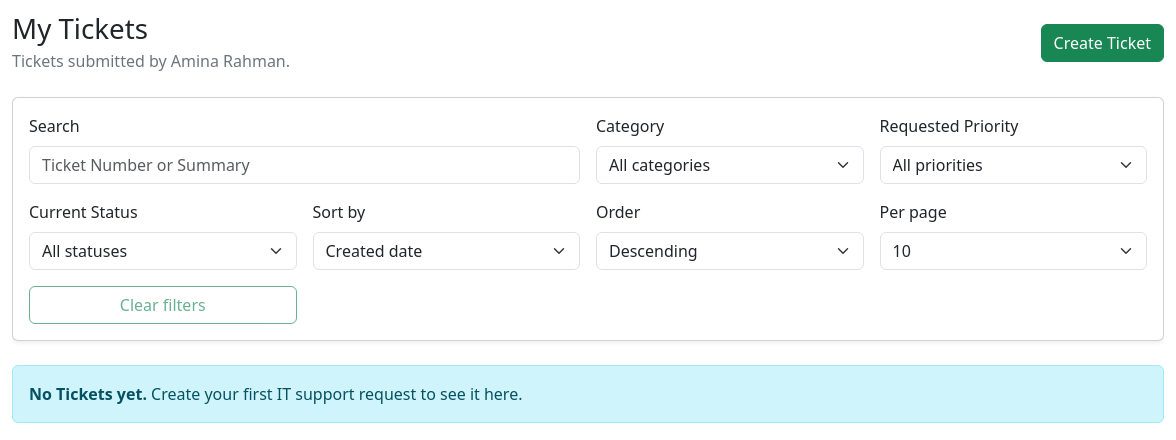
Scenario: My Tickets › distinguishes an empty Ticket list from no matching results
This screenshot has width=1176, height=440.
expect the text "No Tickets yet." is shown: met, box top-left (29, 383), bottom-right (147, 405)
Type "missing" into the field labelled "Search" at coordinates (304, 165), box top-left (29, 146), bottom-right (580, 184)
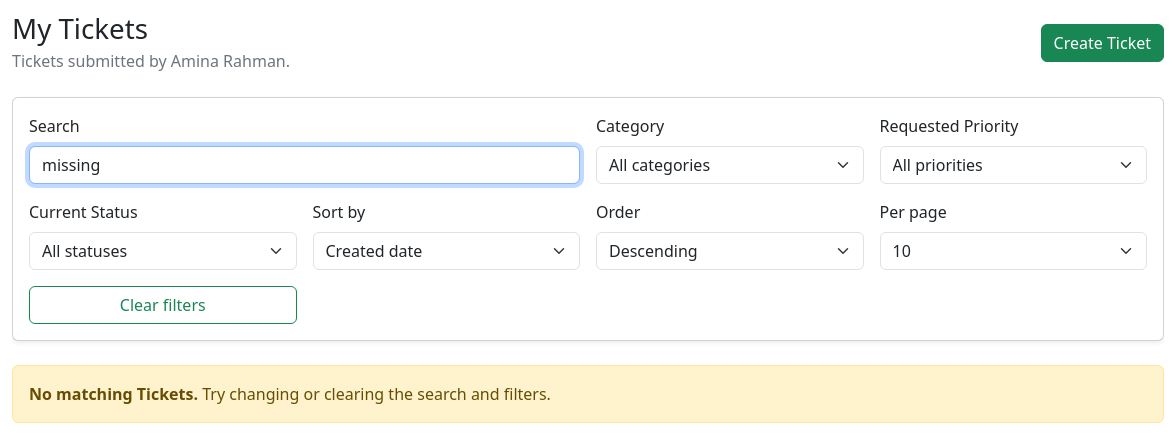
expect the text "No matching Tickets." is shown: met, box top-left (29, 383), bottom-right (198, 405)
